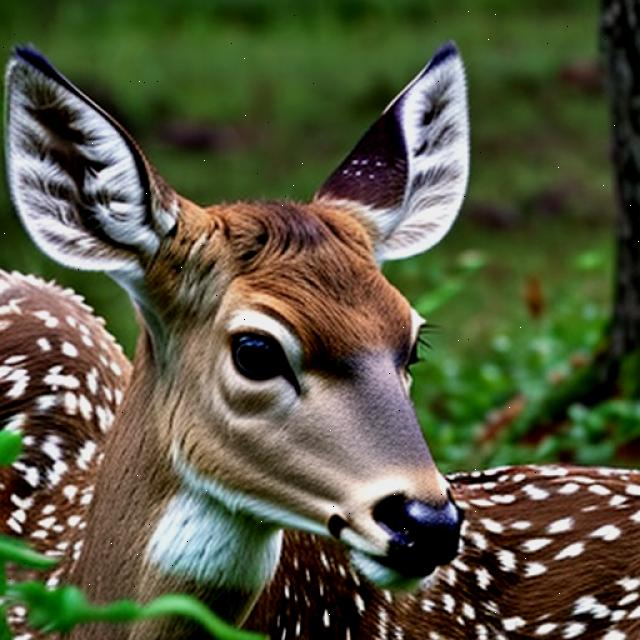deer: (4, 43, 612, 640)
